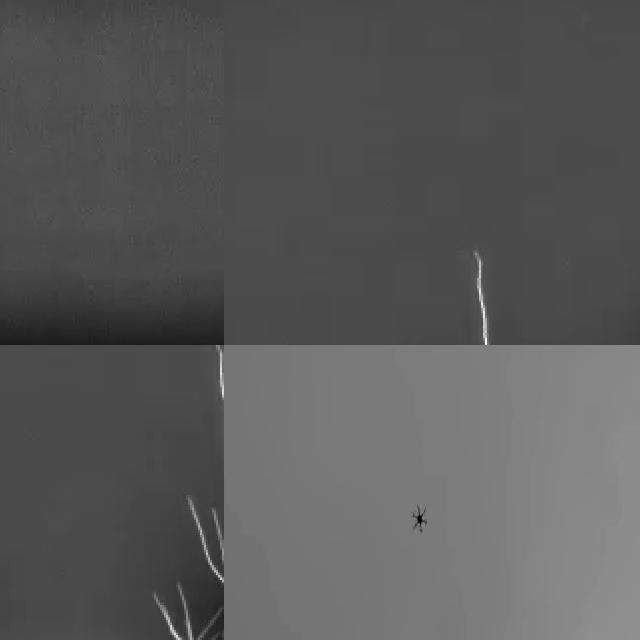drone: (407, 504, 429, 537)
